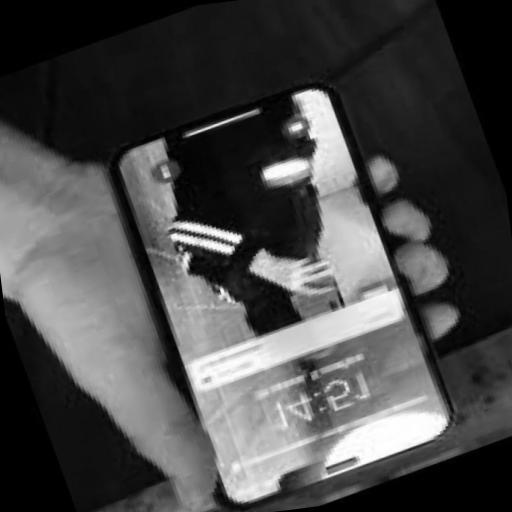phone: (107, 83, 455, 509)
